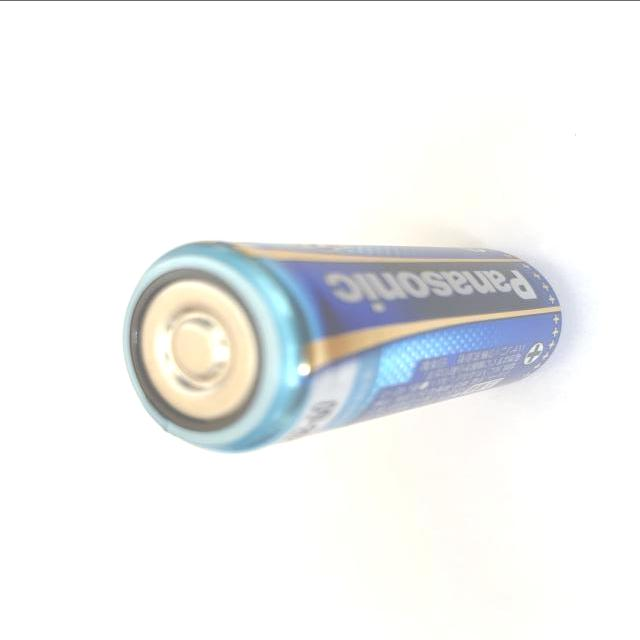AA: (119, 236, 560, 454)
